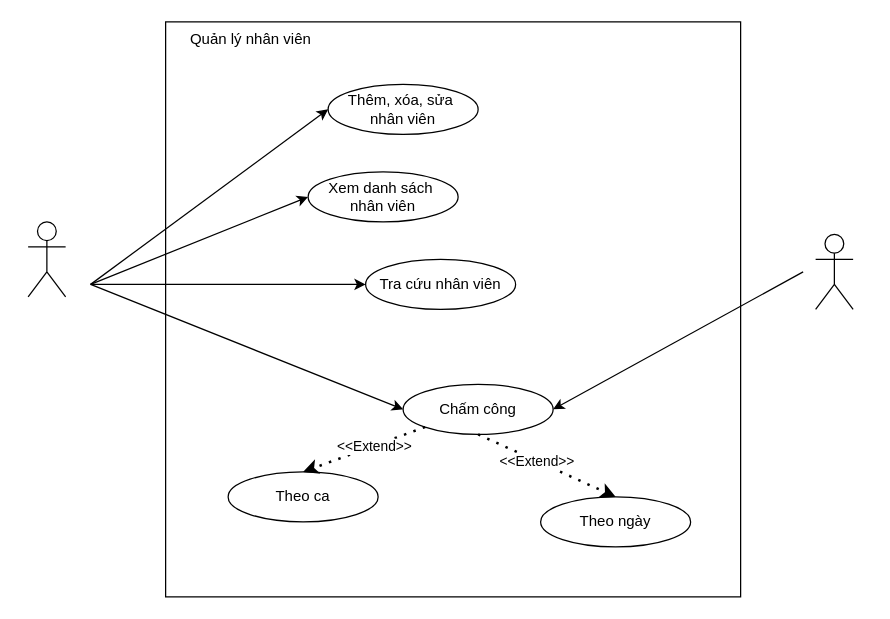
This 890x619 diagram has some shape labels left out. The centre of each missing label's shape, as x and y in pixels:
"Nhân viên" belongs at [833,271].
"Quản lý" belongs at [46,259].
